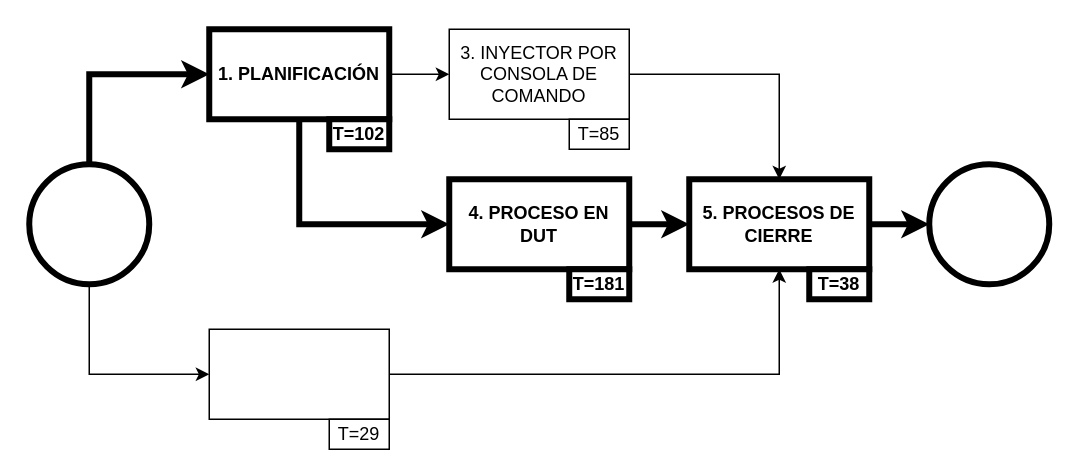
The diagram is 1077 pixels wide and 476 high, and some of its shapes have lost their labels. Each missing label, with the centre of its shape:
2. LOGISTICA E INFRAESTRUCTURA: [298,373]
FIN 15/05/22: [989,223]
INICIO 24/06/21: [89,223]
